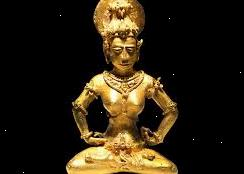golden_tara_of_agusan: (65, 0, 181, 174)
